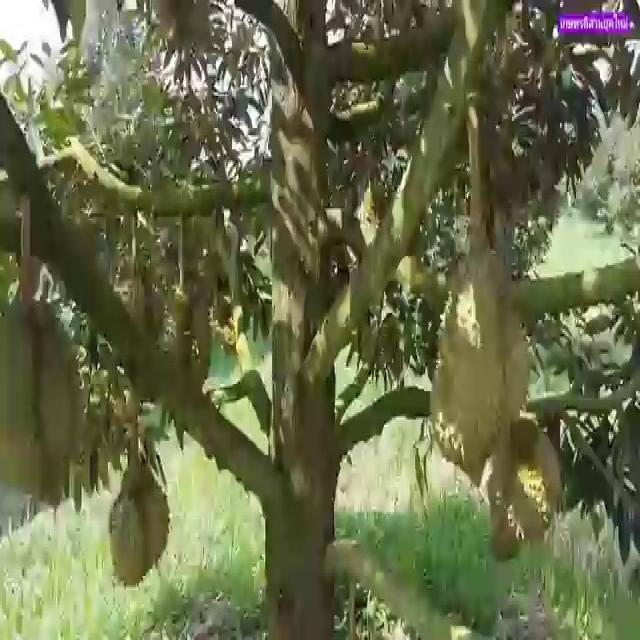durian: (427, 237, 534, 495), (1, 296, 87, 517), (479, 408, 566, 562), (102, 449, 174, 592), (108, 254, 166, 406), (158, 283, 214, 415)
